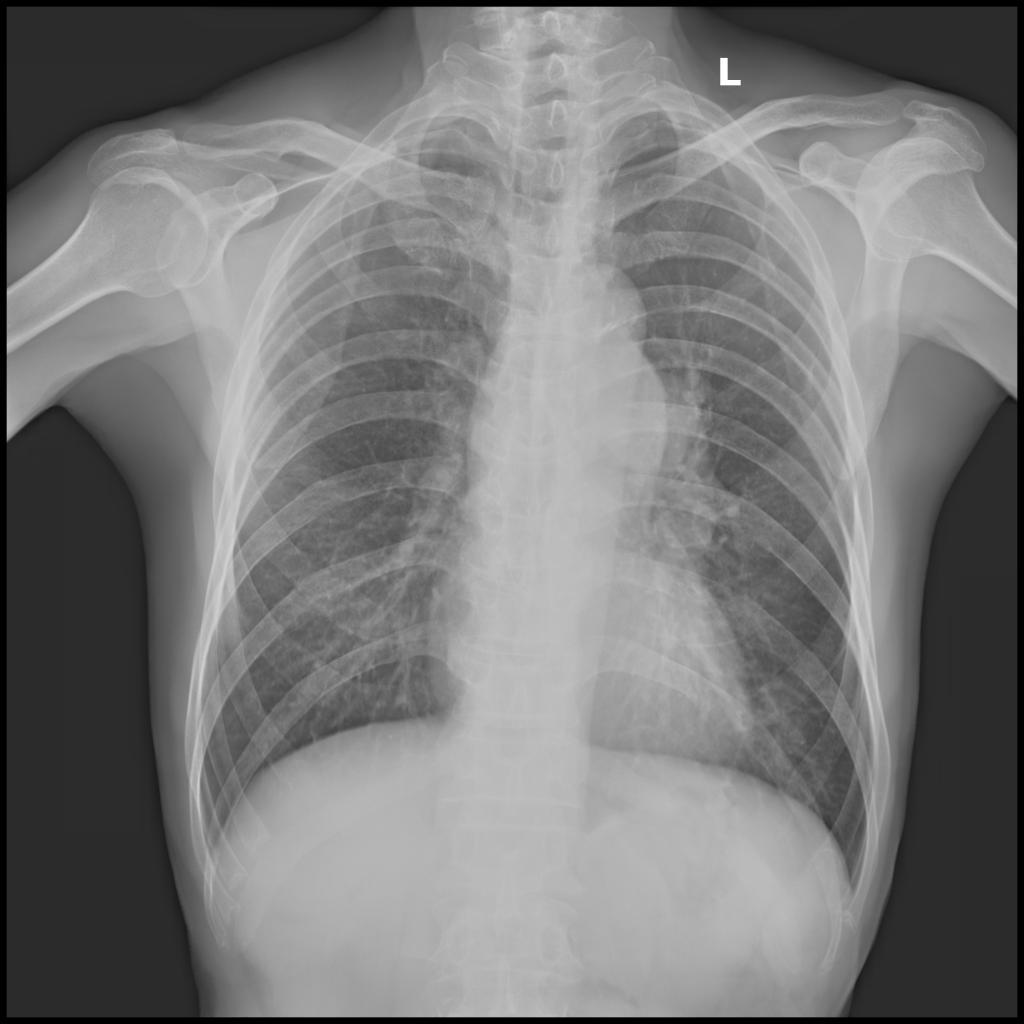Nodule: (607, 334, 670, 491)
